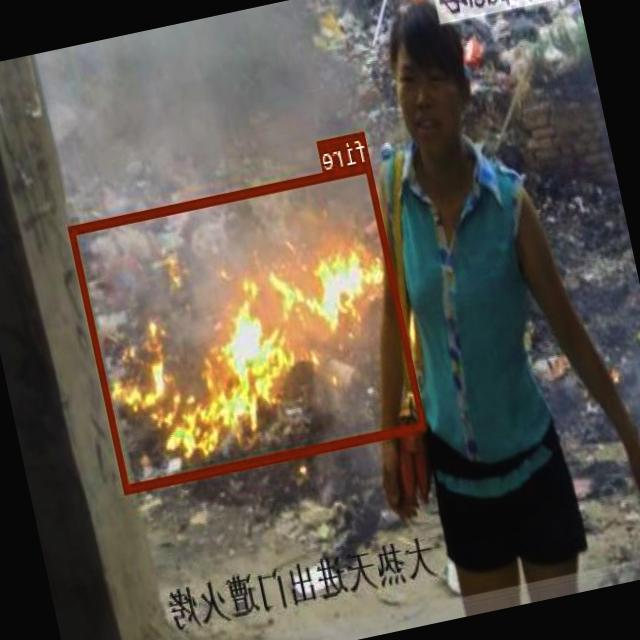fire: (68, 160, 427, 492)
